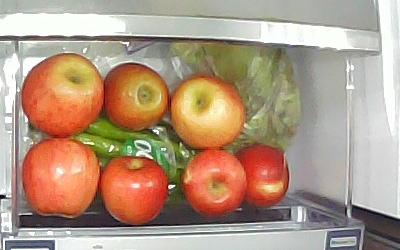apple: (19, 53, 105, 139), (22, 140, 99, 218), (169, 75, 245, 148), (182, 148, 247, 219), (101, 156, 167, 225), (104, 63, 169, 132), (234, 145, 289, 208)
